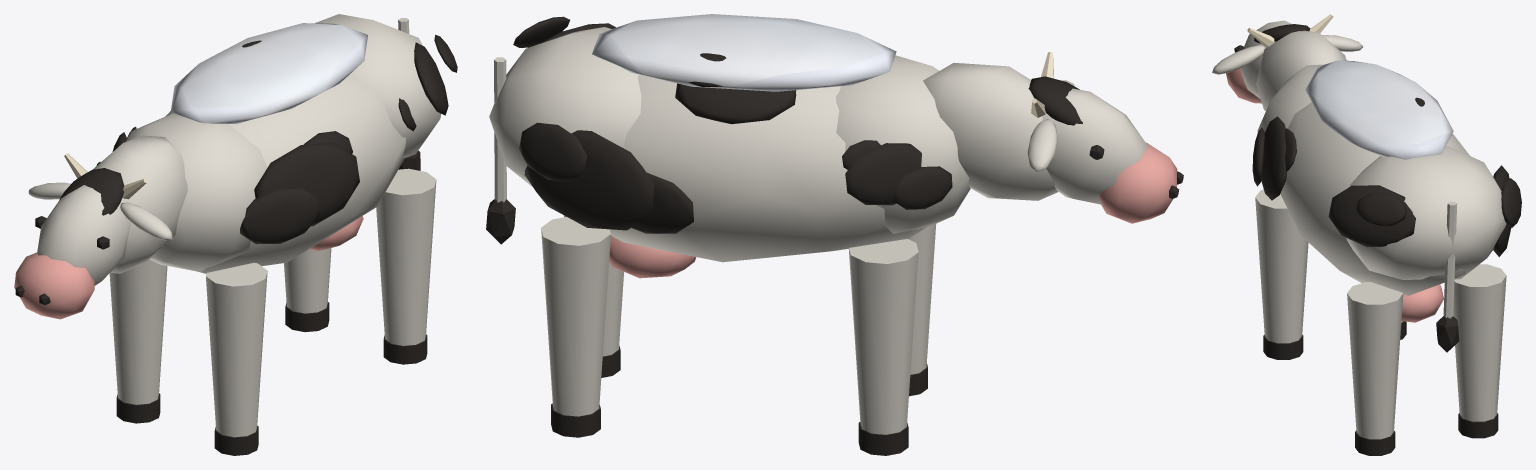
File: unlock-cow-dong.glb
3 renders of one model, left to right at view 1: azimuth 30°, elevation 25°; view 2: azimuth 150°, elevation 25°; view 3: azimuth 270°, elevation 25°, orthographic. The views are drawn at different scales.
Visible parts, largest first — view 1: unlock-cow-static, pivot.001-mesh, pivot.002-mesh; view 2: unlock-cow-static, pivot.001-mesh, pivot.002-mesh; view 3: unlock-cow-static, pivot.001-mesh, pivot.002-mesh.
Boxes of the visible parts, x1,y1,x2,y2 form: unlock-cow-static: (96,14,457,455); pivot.001-mesh: (14,135,187,319); pivot.002-mesh: (398,18,420,170); unlock-cow-static: (489,14,970,455); pivot.001-mesh: (923,52,1183,223); pivot.002-mesh: (486,57,515,244); unlock-cow-static: (1252,60,1521,455); pivot.001-mesh: (1212,14,1362,110); pivot.002-mesh: (1436,201,1459,352).
Size of the model in its own units: 0.7071 by 0.4366 by 0.4176.
Materials: 5 (1 with a texture image).
